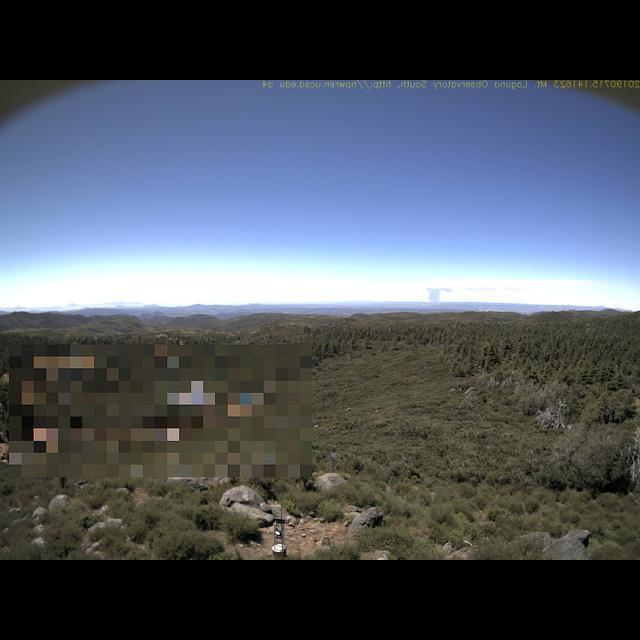Smoke: (422, 285, 456, 304)
